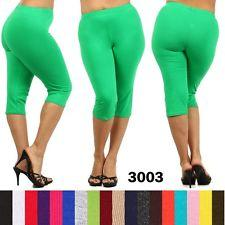C_W_pants: (75, 3, 147, 122), (2, 3, 75, 118), (153, 2, 219, 122)
C_sandals: (10, 145, 55, 188), (86, 150, 121, 187), (176, 157, 214, 188)
